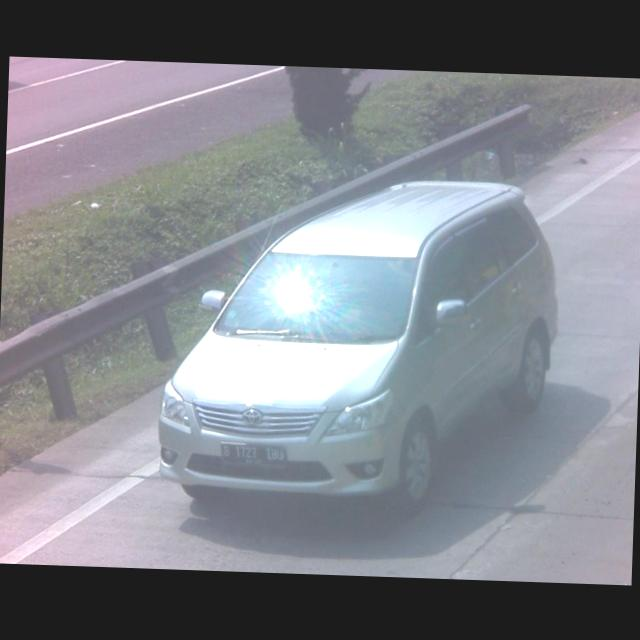plate: (218, 439, 286, 468)
